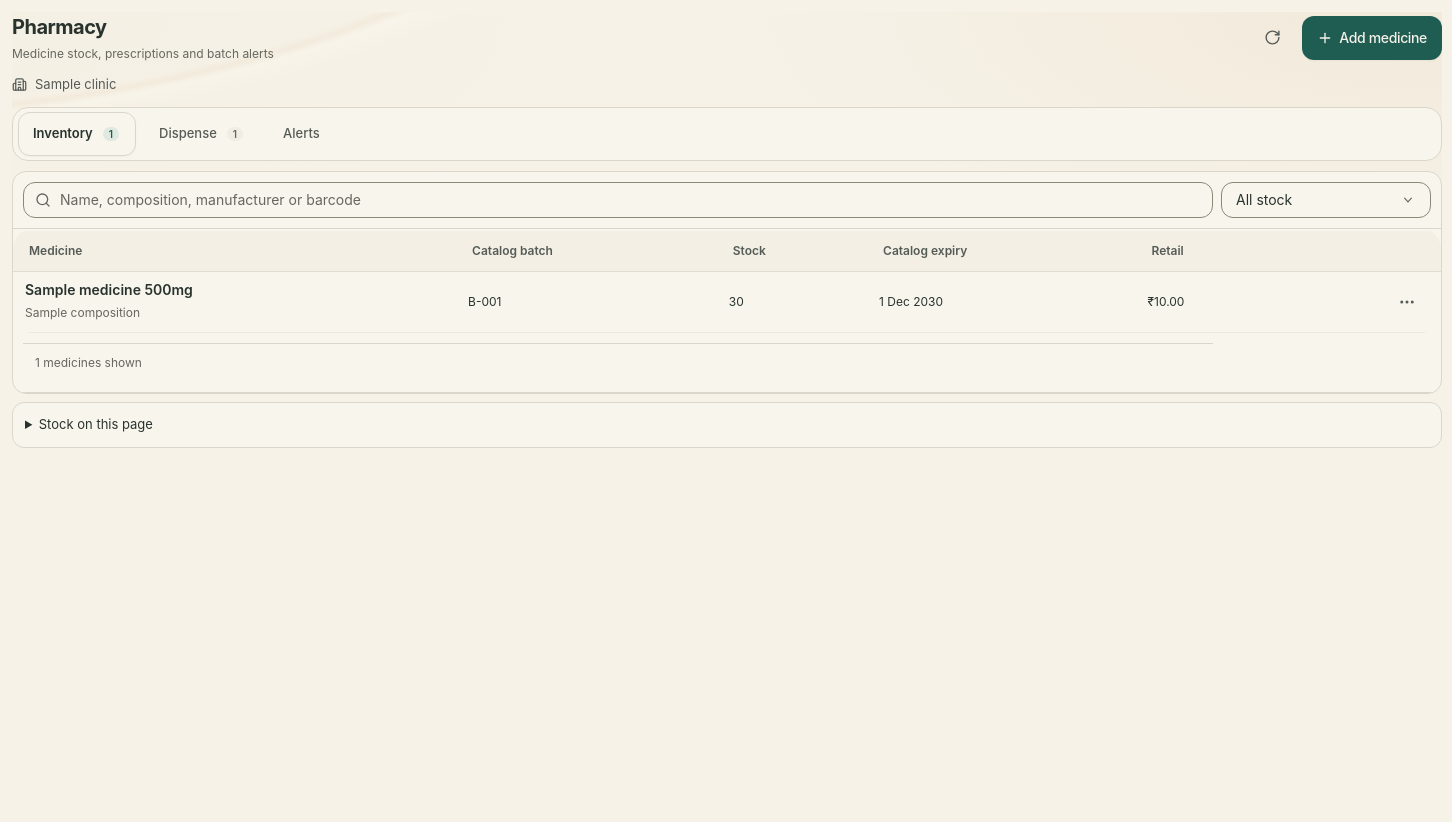
Test: keeps loaded stock on refresh failure and offers retry without enabling writes
Click the button named "Refresh pharmacy" at point(1272, 38), box [1250, 16, 1294, 60]
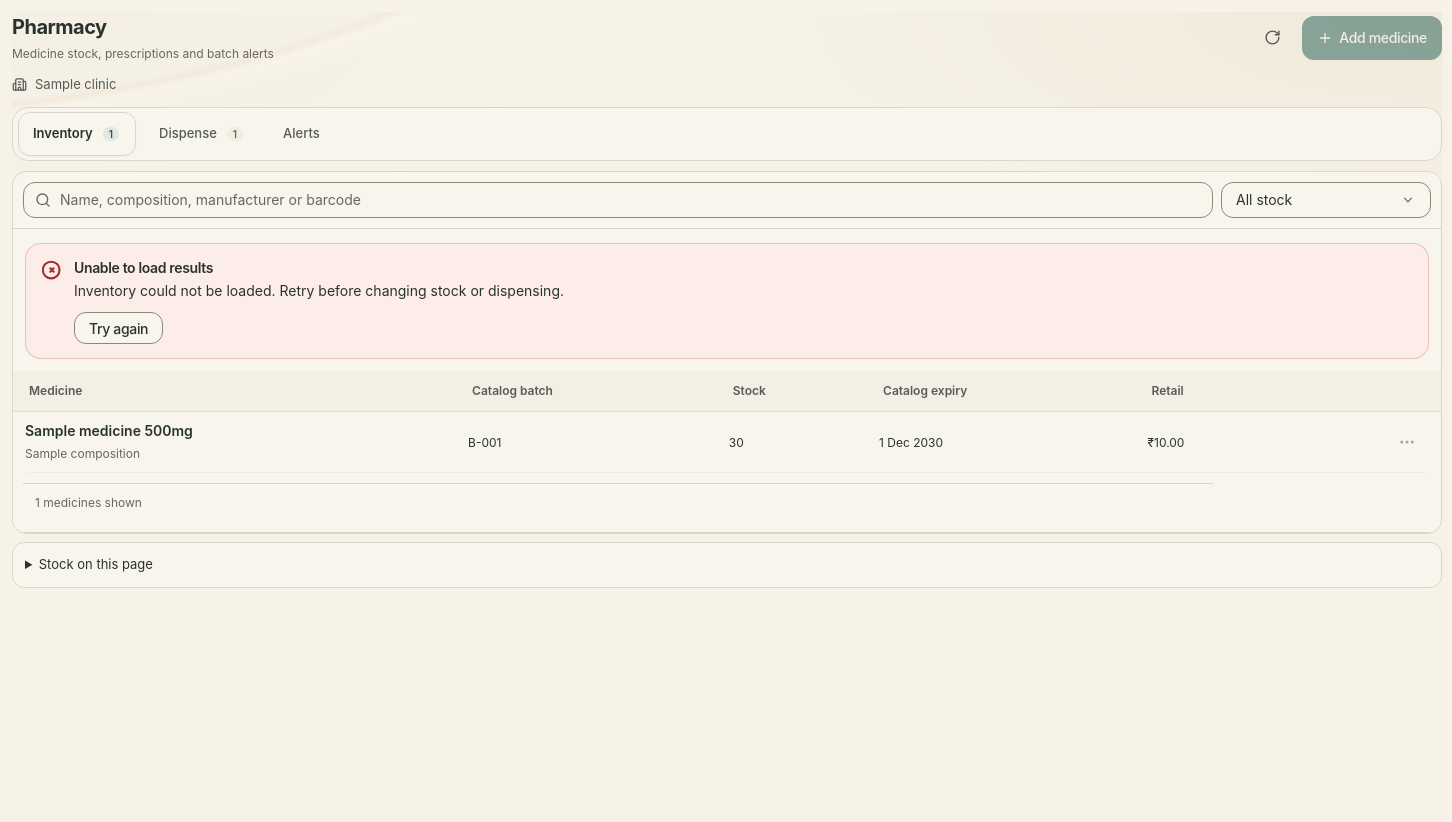
Now the text "Inventory could not be loaded. Retry before changing stock or dispensing." is shown, box [74, 282, 564, 298]
Now the button "Add medicine" is disabled, box [1302, 16, 1442, 60]
Click the button "Try again" at point(119, 328), box [74, 312, 163, 344]
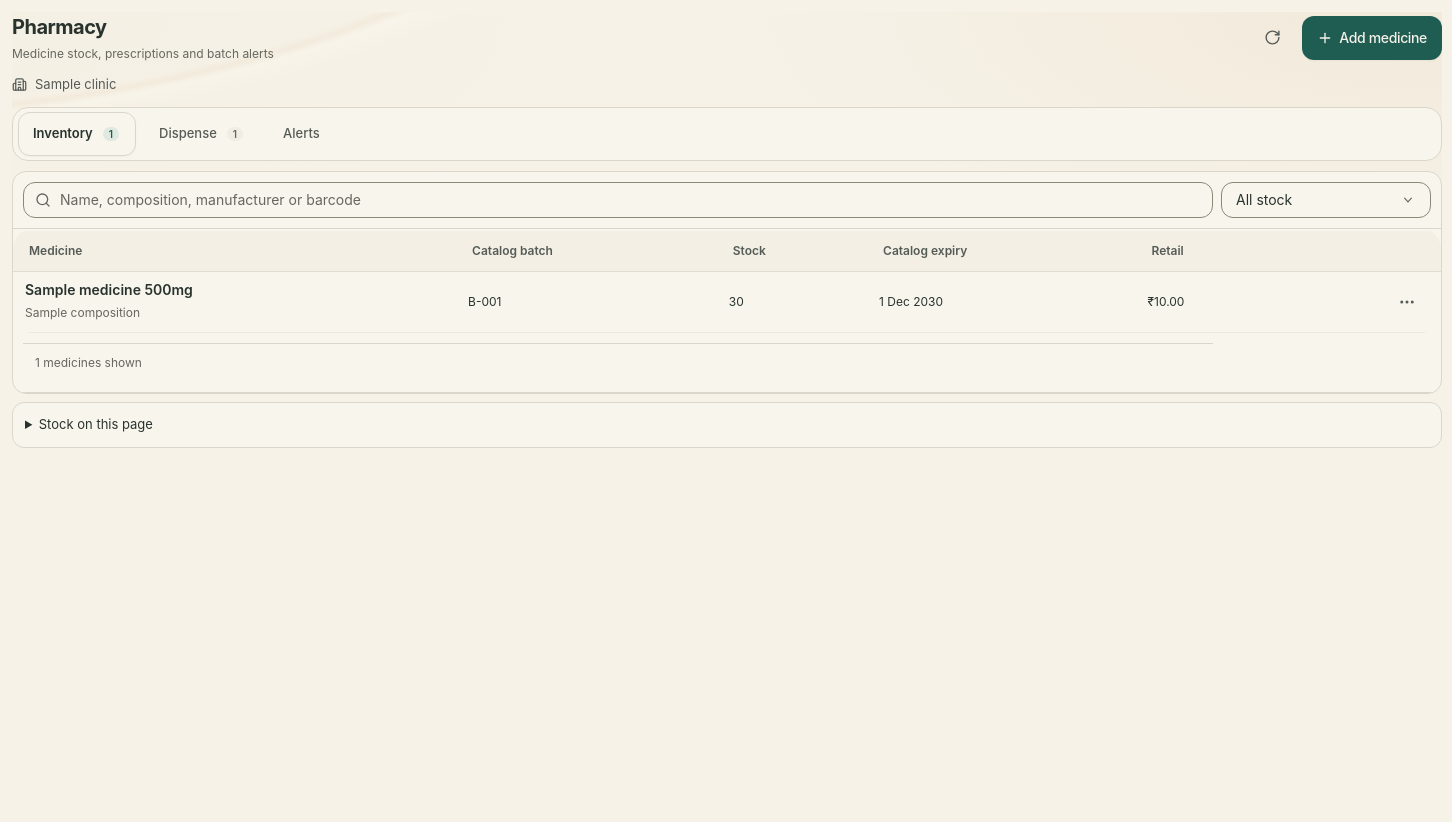
Now the button "Add medicine" is enabled, box [1302, 16, 1442, 60]
